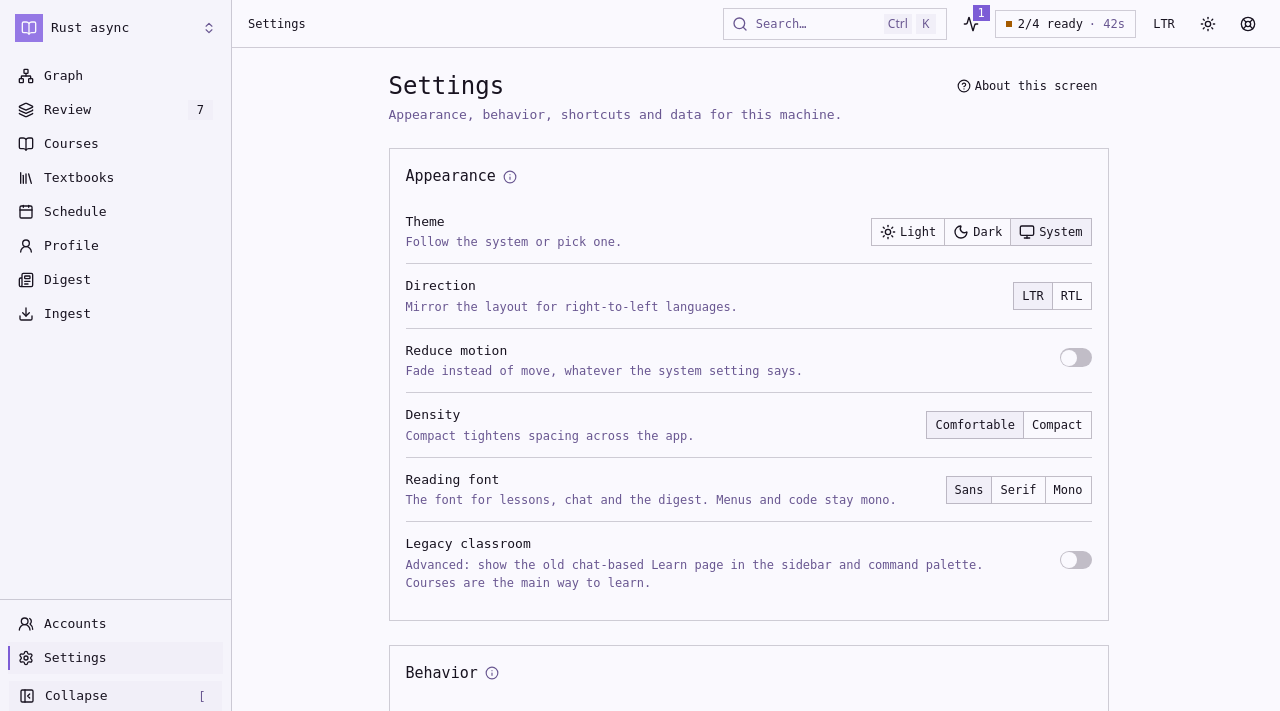
About this screen › /settings lists its parts
Click the button with test id "screen-guide-open" at coordinates (1029, 86), box [950,72,1108,100]
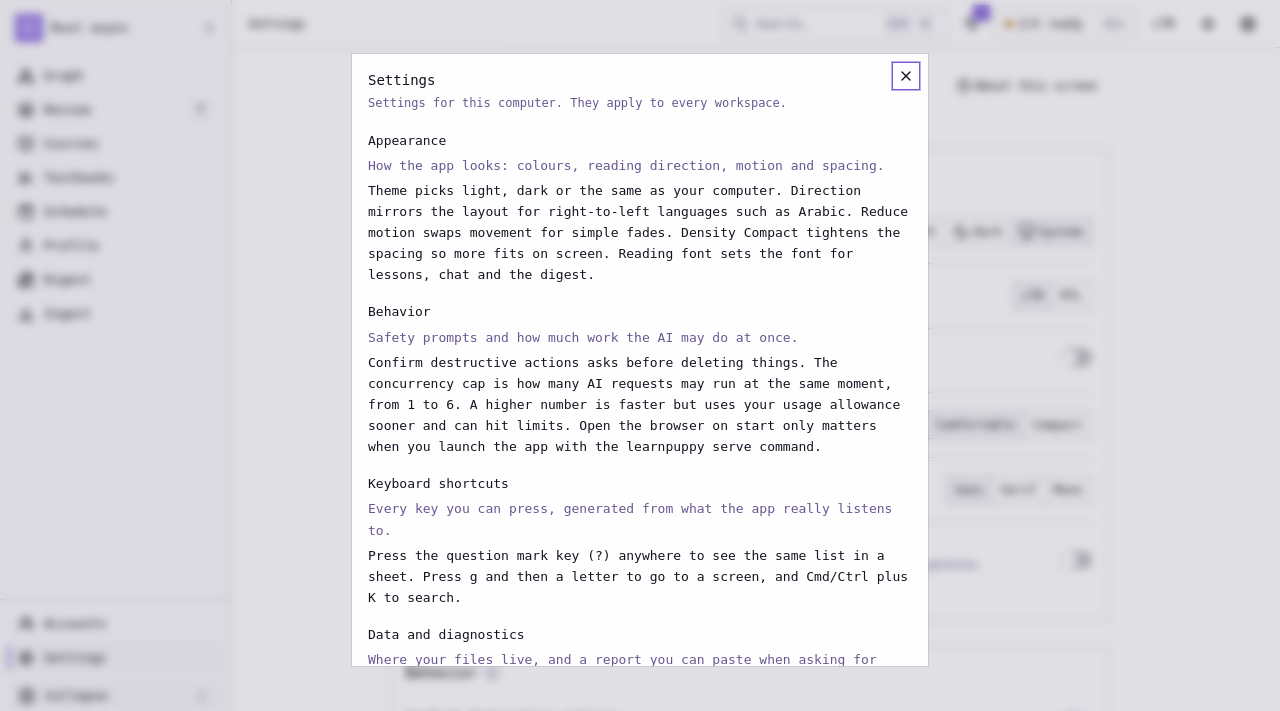
Now the heading "Settings" is shown, box [368,72,435,88]
Now the dialog with test id "screen-guide" shows "Appearance", box [368,132,446,148]
